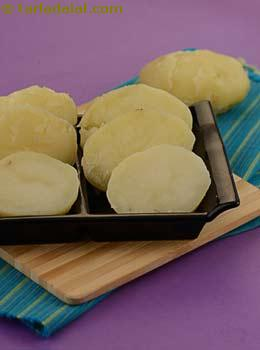boiled potatoes: (4, 83, 195, 215), (149, 49, 249, 99)
